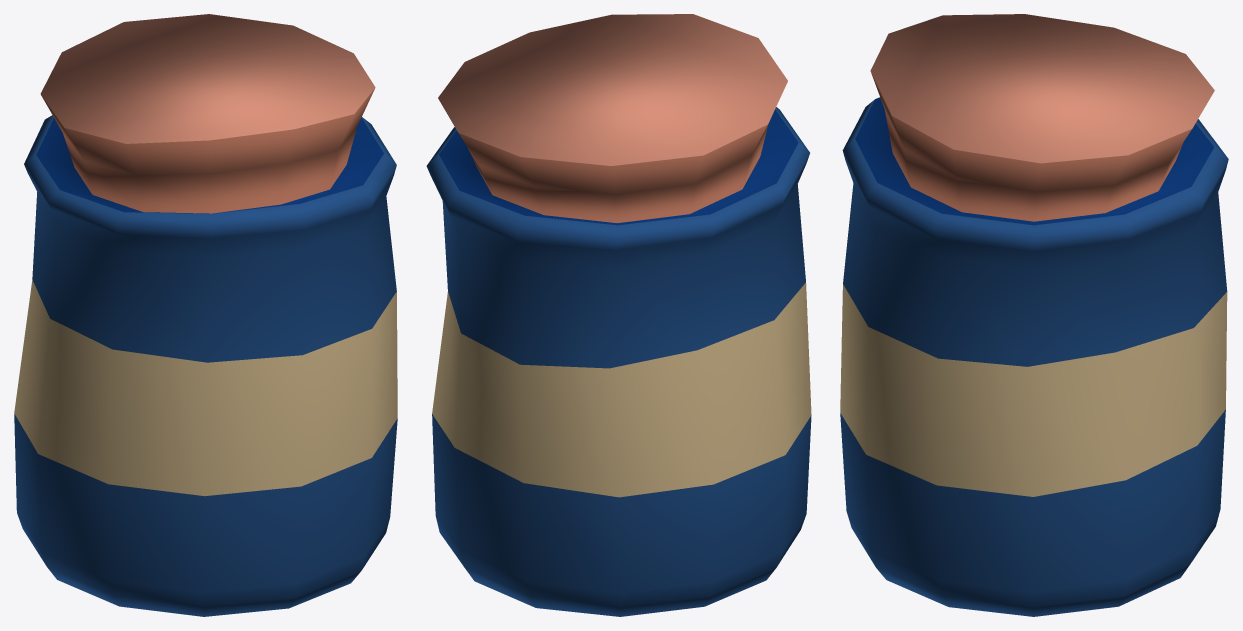
File: jar01.fbx
3 renders of one model, left to right at view 1: azimuth 30°, elevation 25°; view 2: azimuth 150°, elevation 25°; view 3: azimuth 270°, elevation 25°, orthographic.
Parts seen in each view (by area): view 1: jar01; view 2: jar01; view 3: jar01.
Part boxes in pixels (x1,y1,x2,y2): jar01: (14, 14, 397, 616); jar01: (426, 14, 811, 616); jar01: (840, 14, 1228, 616).
Size of the model in its own units: 23.31 by 31.87 by 23.44.
